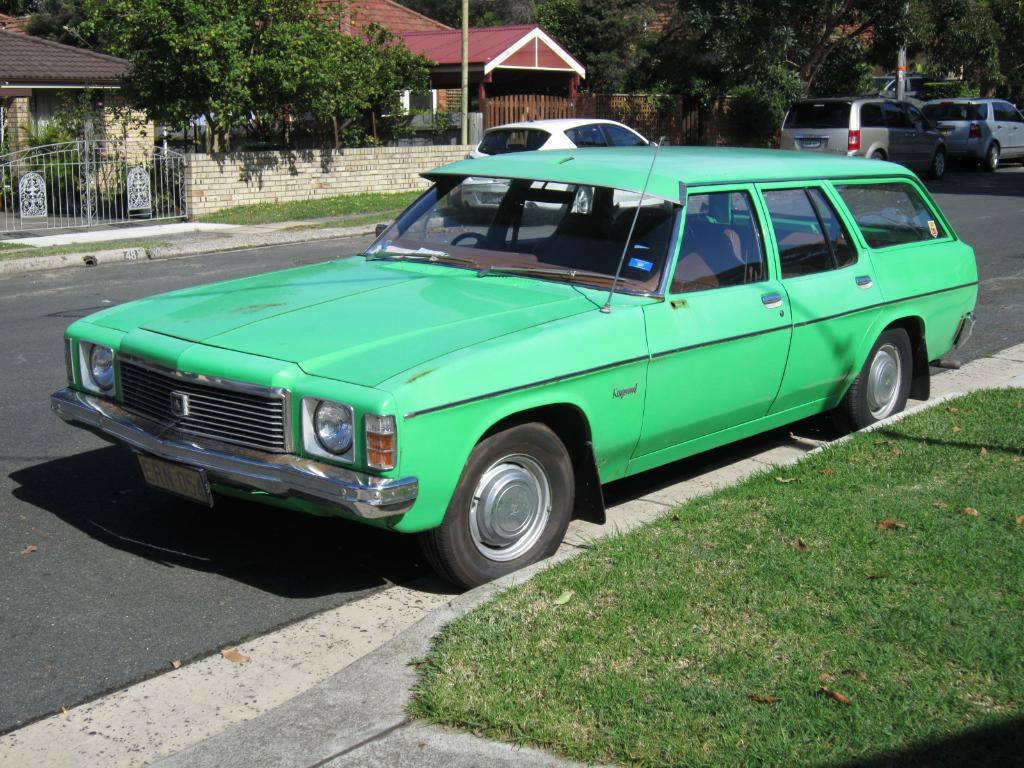Car: (48, 136, 981, 591), (462, 112, 672, 218), (773, 103, 947, 177), (921, 97, 1023, 166), (871, 75, 922, 103)
